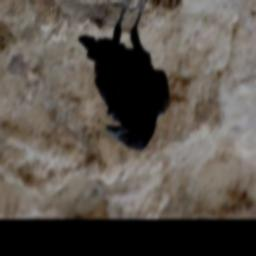Crow: (78, 0, 168, 152)
